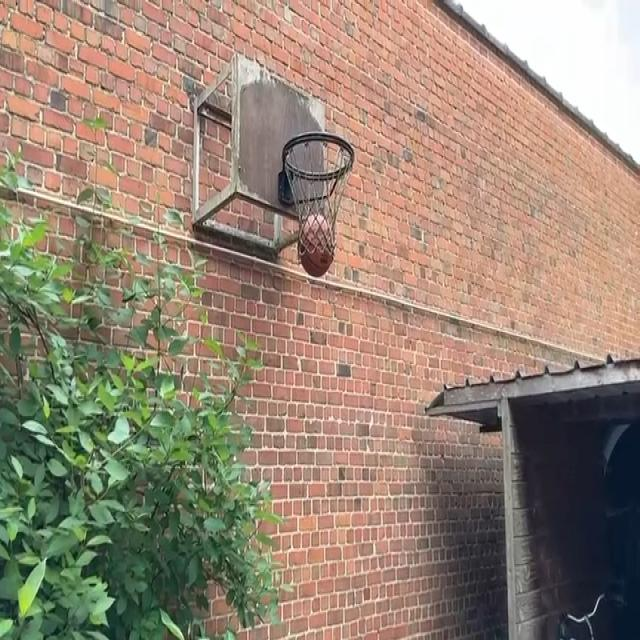Goal: (300, 215, 335, 278)
